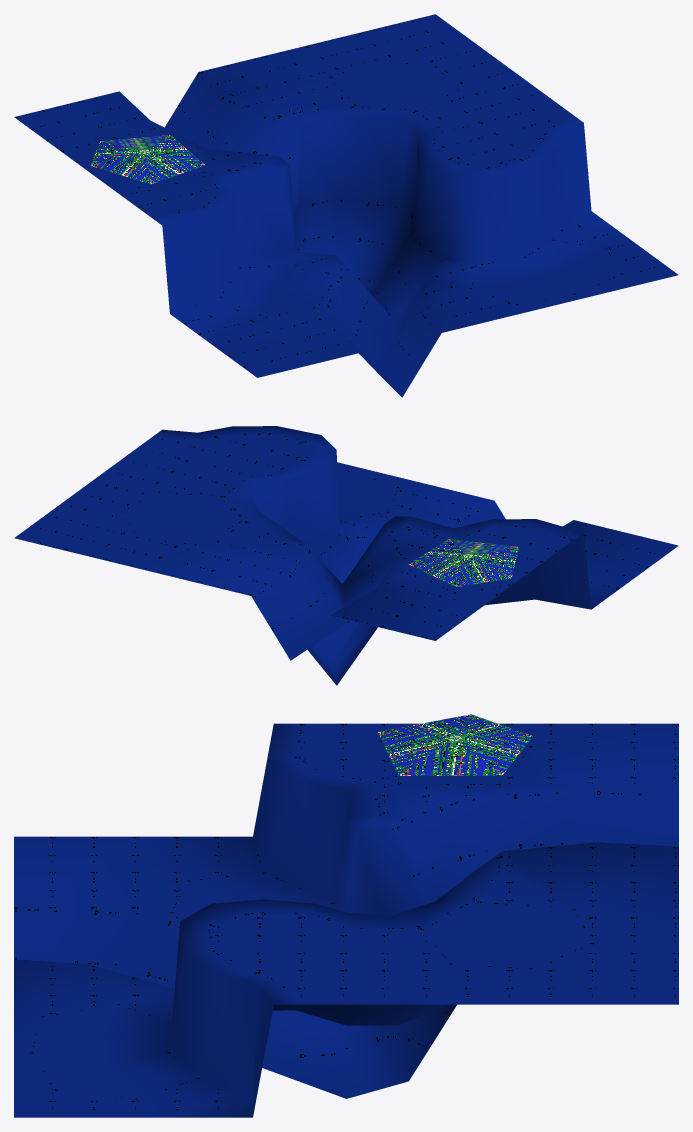
File: GRD_S_C1_R1_1.fbx
3 renders of one model, top to bottom at view 1: azimuth 30°, elevation 25°; view 2: azimuth 150°, elevation 25°; view 3: azimuth 270°, elevation 25°, orthographic. The views are drawn at different scales.
Parts seen in each view (by area): view 1: material_00022000, material_00032000, material_C0042000, material_C0052000, material_C0012000, material_C0062000; view 2: material_00022000, material_00032000, material_C0042000, material_C0052000, material_C0012000, material_C0062000; view 3: material_00022000, material_00032000, material_C0042000, material_C0052000, material_C0012000, material_C0062000.
Part boxes in pixels (box(x1,y1,x2,y2)): material_00022000: box(14, 14, 678, 377); material_00032000: box(151, 106, 591, 313); material_C0042000: box(165, 72, 444, 397); material_C0052000: box(219, 59, 623, 315); material_C0012000: box(90, 135, 205, 184); material_C0062000: box(90, 166, 204, 191); material_00022000: box(14, 433, 678, 640); material_00032000: box(151, 426, 591, 609); material_C0042000: box(251, 501, 505, 685); material_C0052000: box(120, 469, 398, 545); material_C0012000: box(408, 539, 519, 586); material_C0062000: box(408, 553, 519, 593); material_00022000: box(14, 723, 678, 1117); material_00032000: box(170, 723, 502, 1116); material_C0042000: box(14, 789, 678, 1098); material_C0052000: box(29, 872, 595, 1099); material_C0012000: box(378, 714, 533, 775); material_C0062000: box(378, 740, 532, 785).
Bounding box in the file's own units: 12800 × 5200 × 12800.
